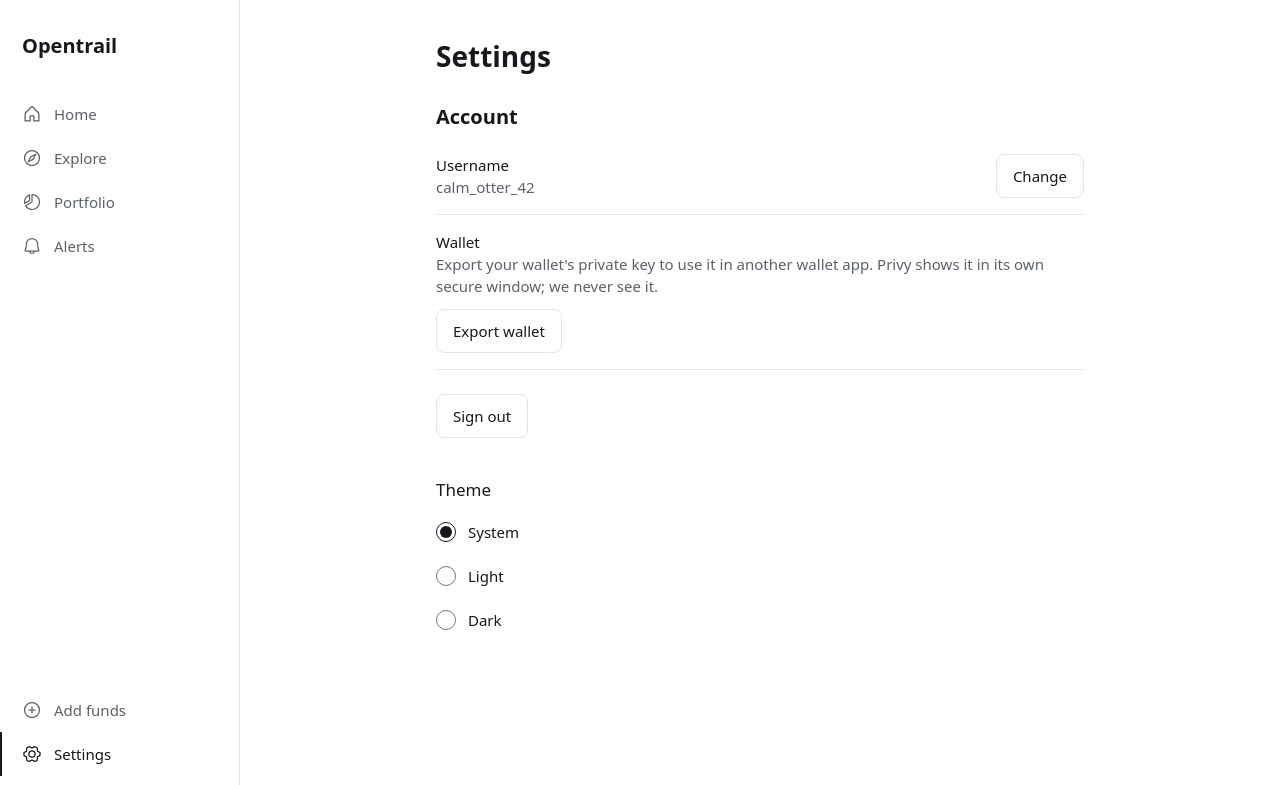
Test: the Account section › won't save a name someone else has
The image size is (1280, 785).
Click the button "Change".
click(1040, 176)  # box [996,154,1084,198]
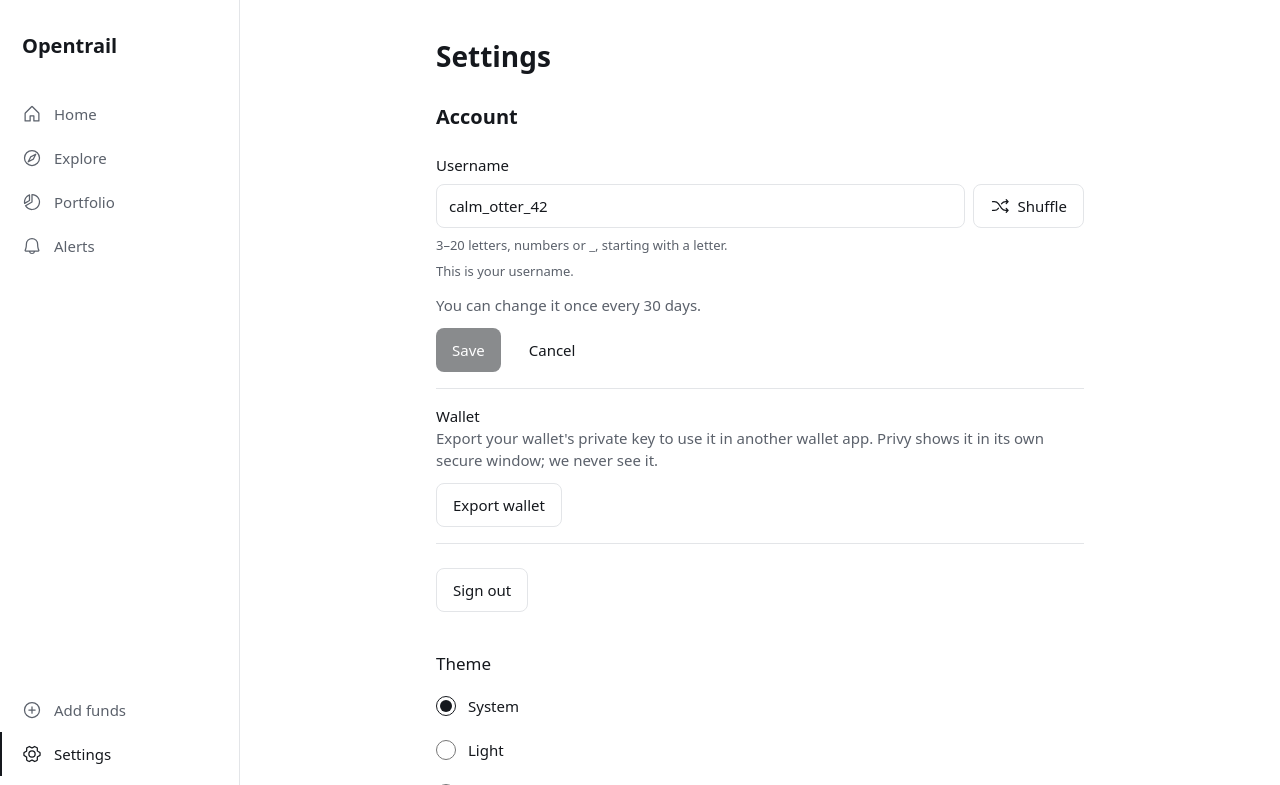
Replace the text in the field labelled "Username" with "maya" at (700, 206), box [436,184,965,228]
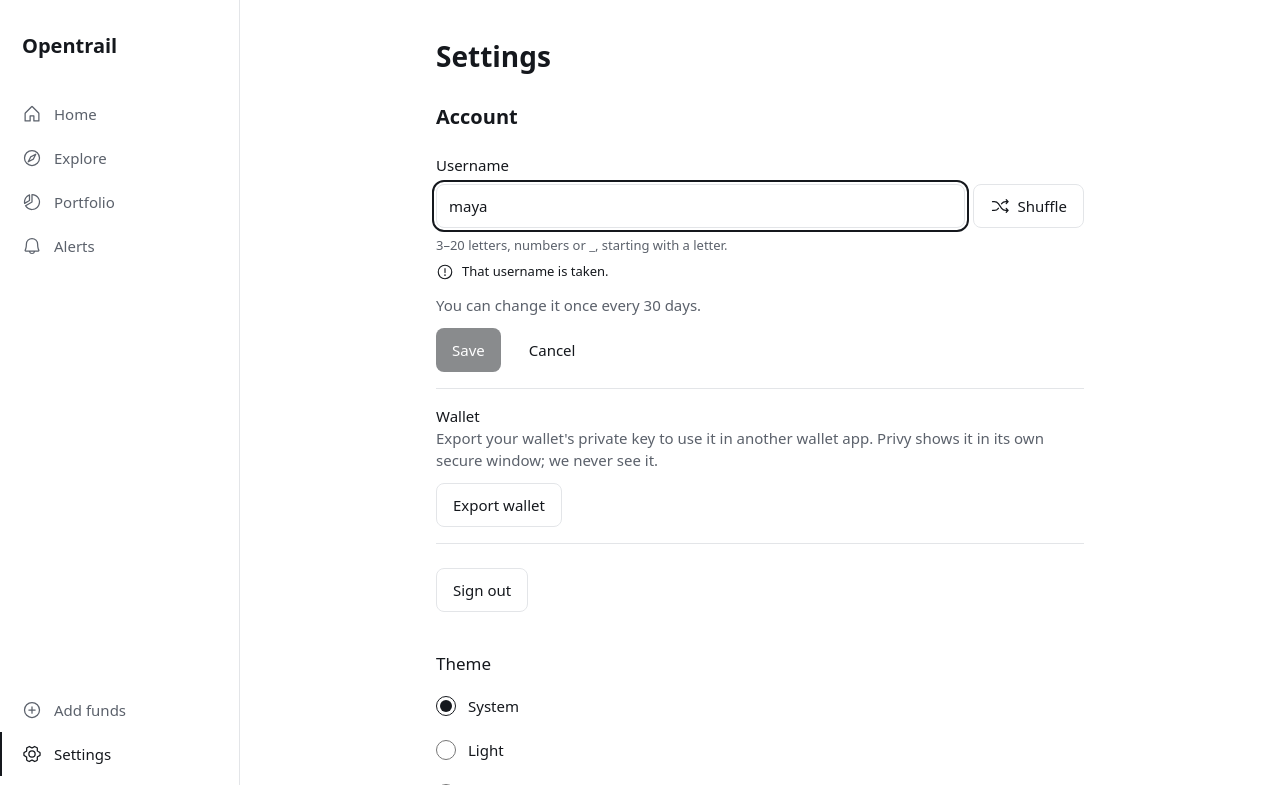
Now the button "Save" is disabled, box [436,328,501,372]
Now the text "That username is taken." is shown, box [436,262,608,281]
